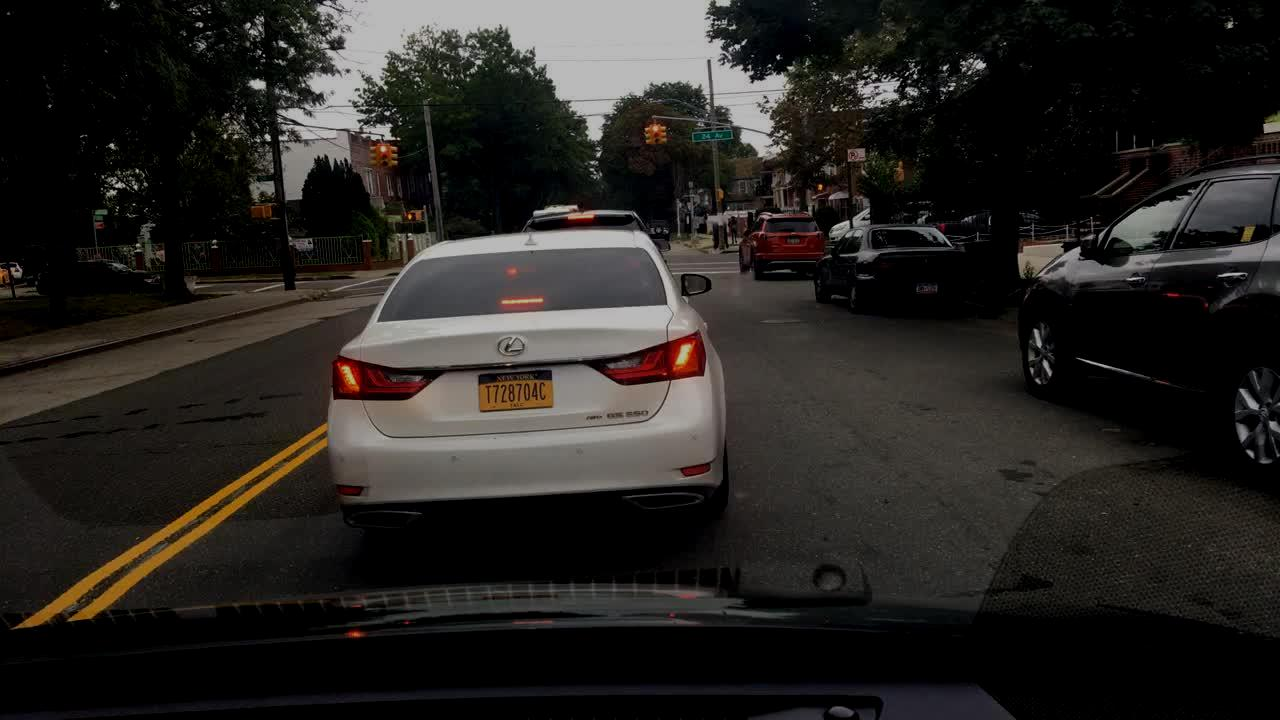lexus: (490, 332, 530, 362)
